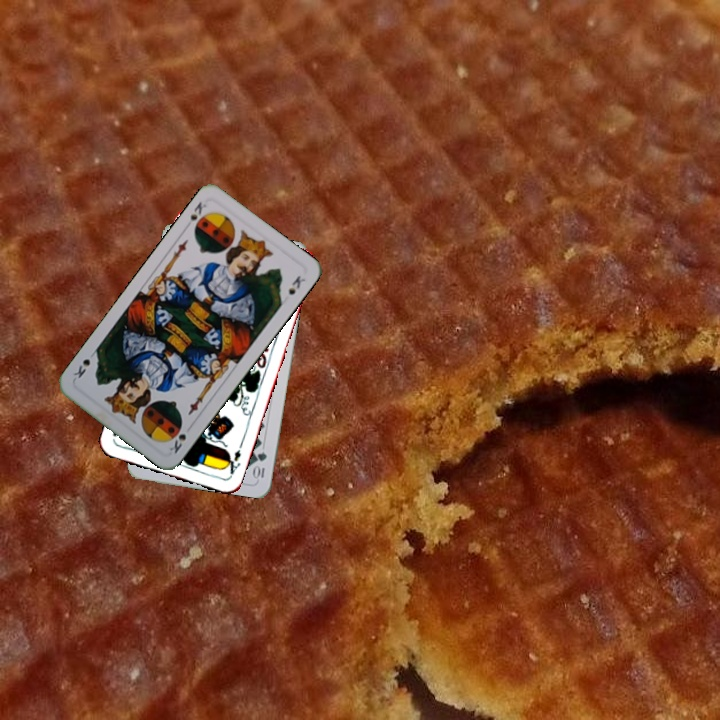EA: (221, 440, 245, 480)
G10: (251, 448, 269, 482)
SK: (165, 430, 189, 456), (186, 197, 210, 223)
